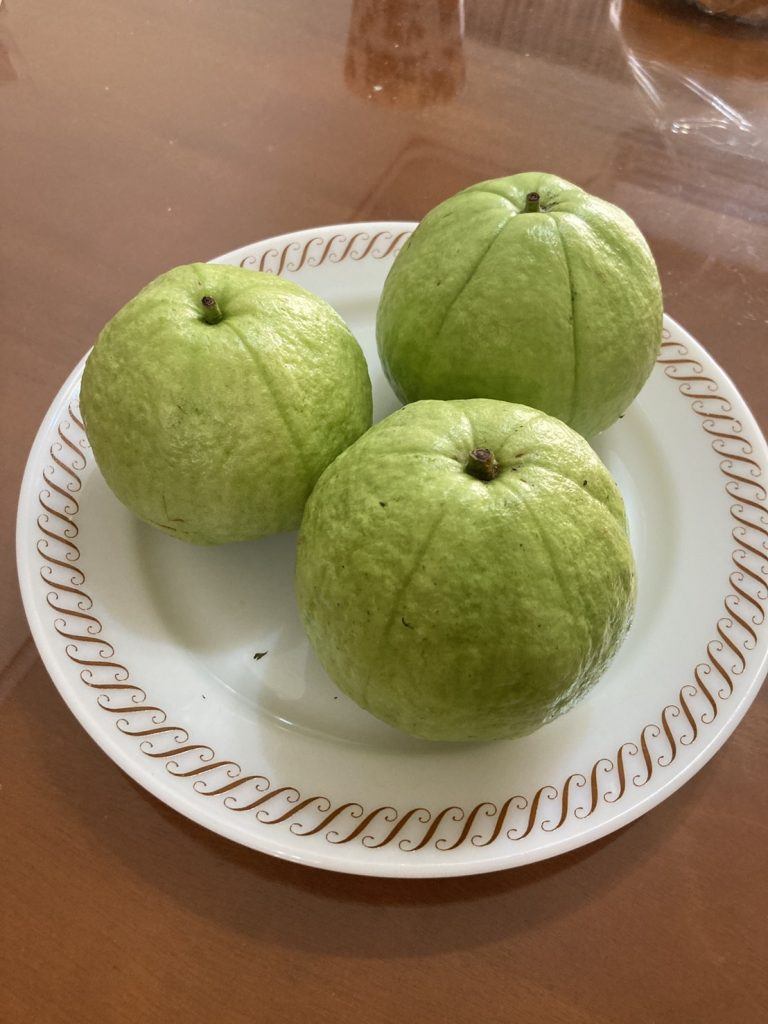guava: (292, 400, 634, 750), (79, 261, 372, 551), (376, 171, 663, 447)
